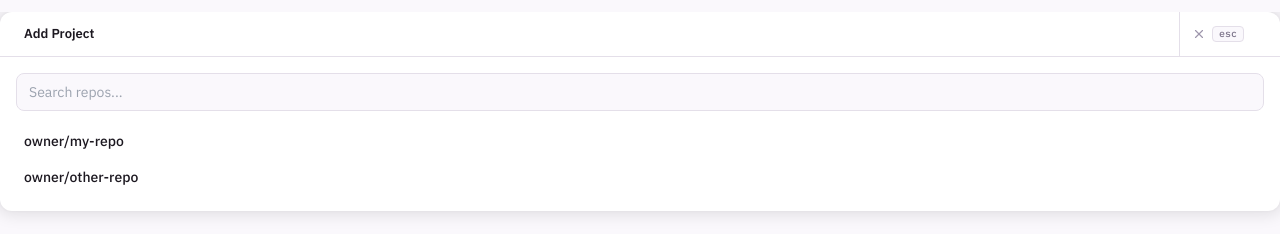
RepoSearch › filters repos locally as the query changes
Check: the text "owner/my-repo" is shown, box [24,131,124,151]
Check: the text "owner/other-repo" is shown, box [24,167,138,187]
Type a query — filtering happens client-side immediately
Type "my-repo" into the field with placeholder "Search repos...".
click(640, 92); type("my-repo")  # box [16,73,1264,111]
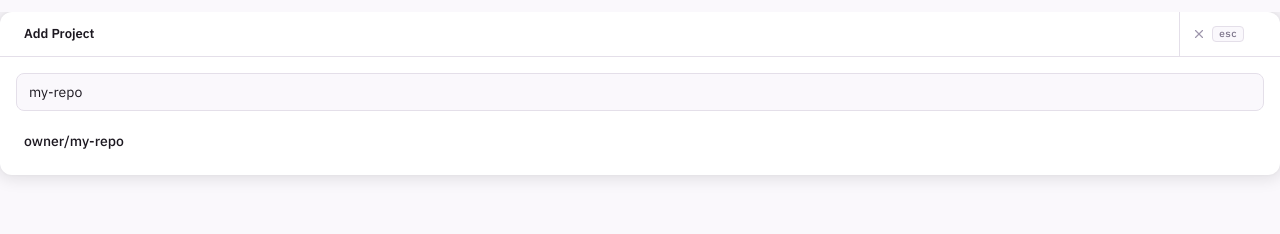
Check: the text "owner/my-repo" is shown, box [24,131,124,151]
Check: the button "owner/other-repo" is gone
